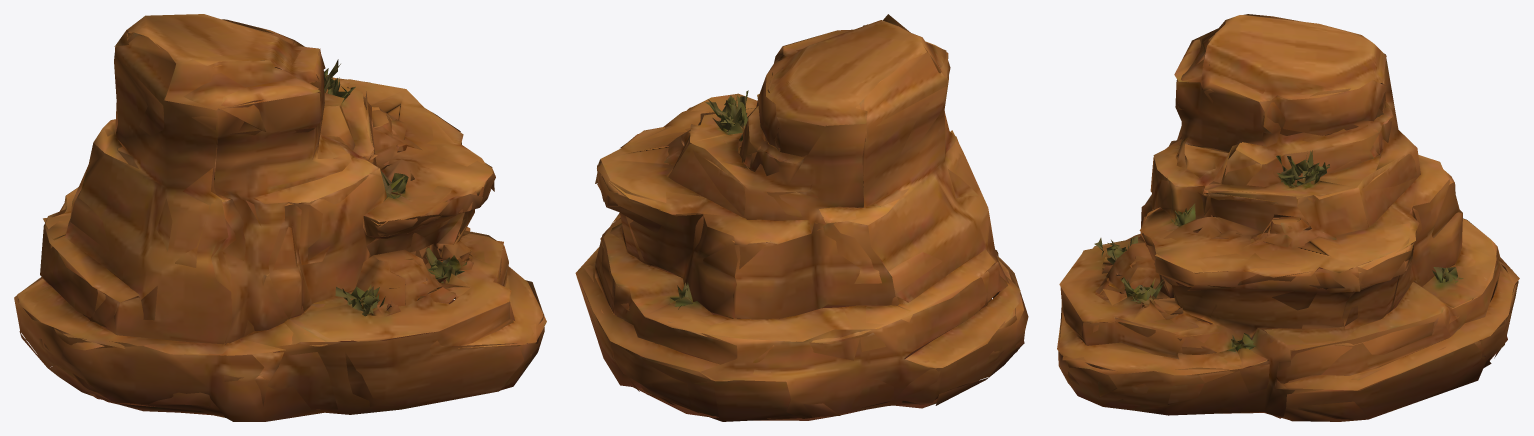
Rendered from rock_b.glb.
3 renders of one model, left to right at view 1: azimuth 30°, elevation 25°; view 2: azimuth 150°, elevation 25°; view 3: azimuth 270°, elevation 25°, orthographic. The views are drawn at different scales.
Parts seen in each view (by area): view 1: geometry_0; view 2: geometry_0; view 3: geometry_0.
Boxes of the visible parts, x1,y1,x2,y2 form: geometry_0: (14,14,546,421); geometry_0: (575,14,1028,421); geometry_0: (1057,14,1519,421).
Size of the model in its own units: 0.9568 by 0.6805 by 1.01.
Materials: 1 (1 with a texture image).
